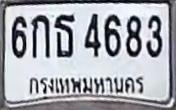3: (146, 14, 162, 57)
4: (84, 13, 100, 56)
6: (103, 14, 120, 56), (11, 16, 26, 58)
7: (22, 72, 150, 100)
8: (125, 15, 141, 56)
A01: (31, 14, 49, 58)
A24: (54, 14, 74, 57)
